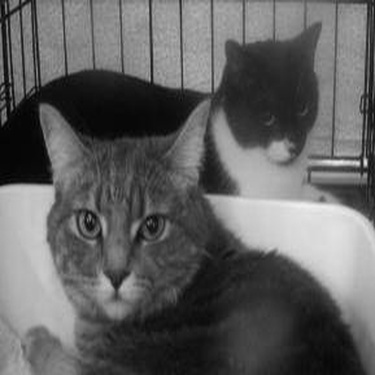cat: (24, 100, 342, 365), (11, 12, 348, 204)
